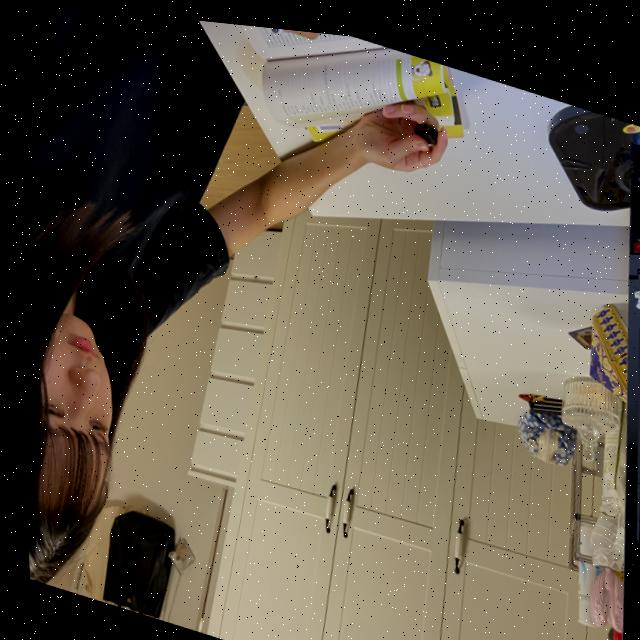studying-person: (0, 0, 506, 640)
